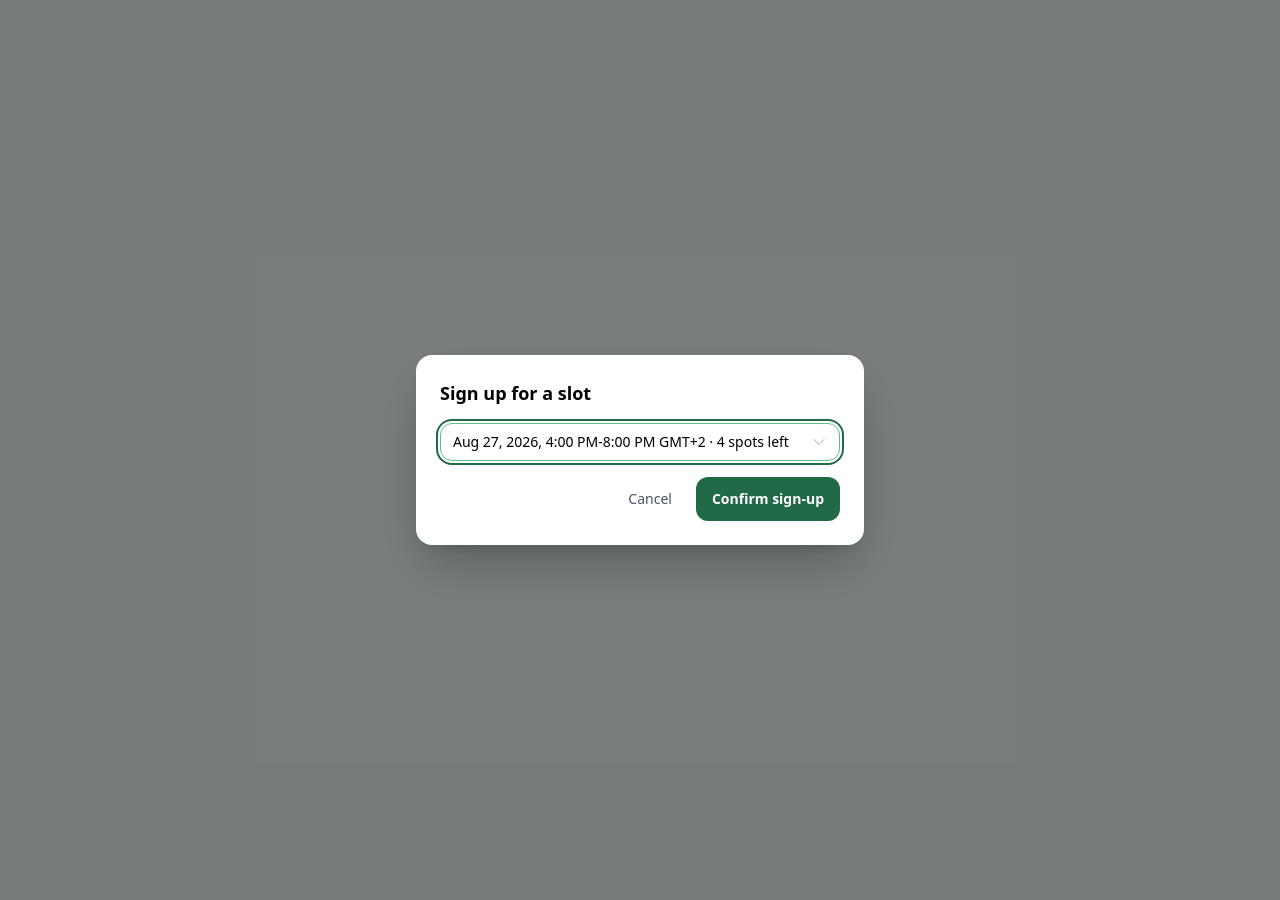
Scenario: SignUpModal slots the volunteer already holds (#2323) › disables them instead of offering an option that can only 409
Click the dropdown at point(640, 442), box [440, 423, 840, 461]
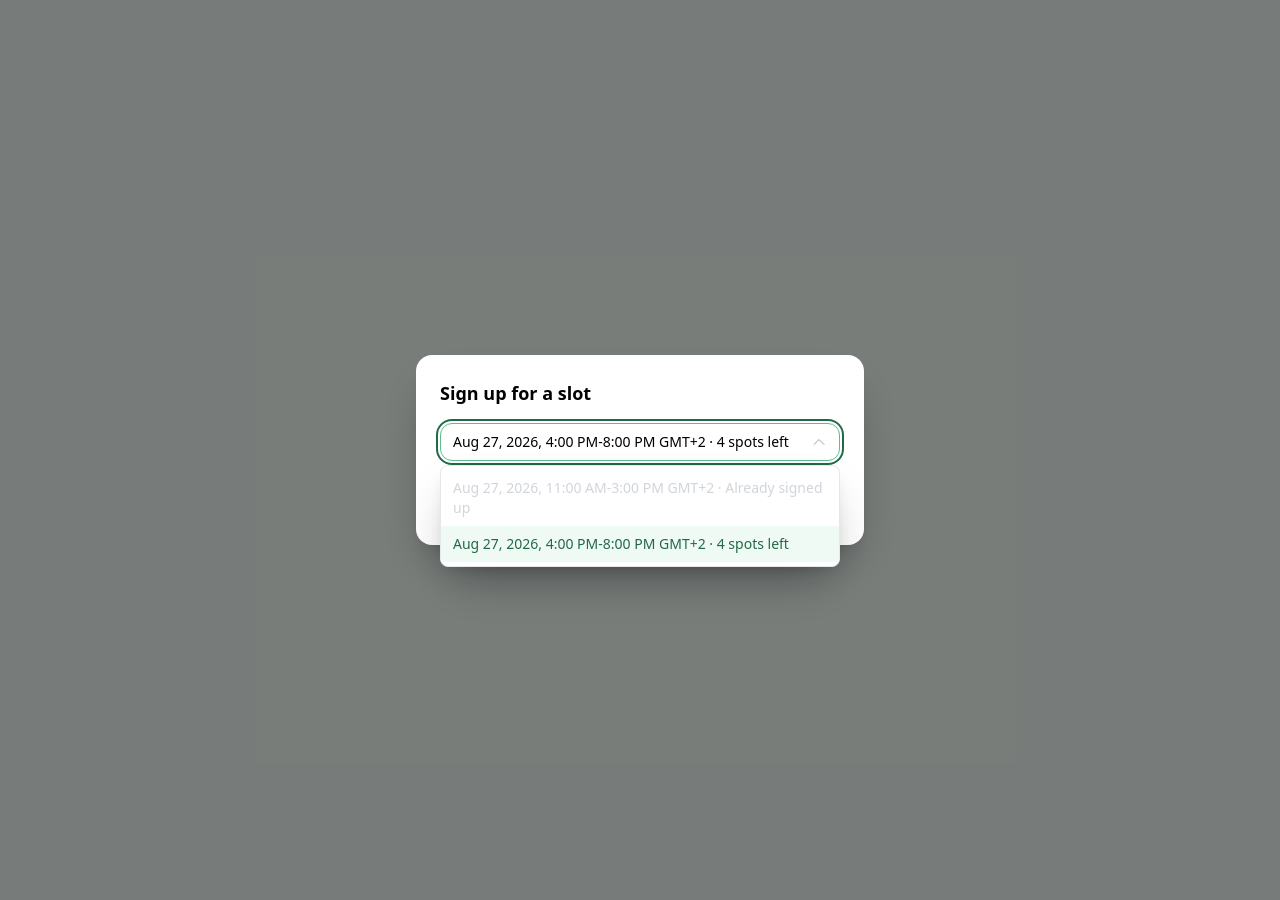
Now the 1st option shows "Already signed up", box [441, 470, 839, 526]
